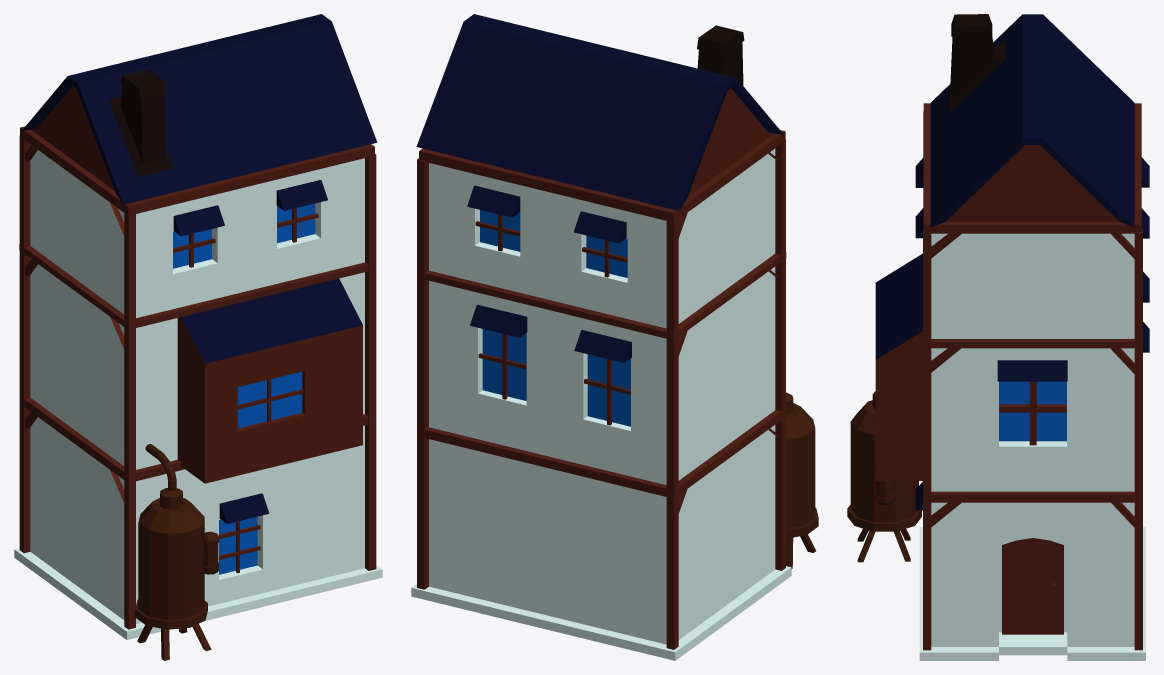
Rendered from house_with_tank.obj.
The picture shows the model from 3 angles, left to right: view 1: azimuth 30°, elevation 25°; view 2: azimuth 150°, elevation 25°; view 3: azimuth 270°, elevation 25°; orthographic projection. The views are drawn at different scales.
Visible parts, largest first — view 1: House; view 2: House; view 3: House.
Part boxes in pixels (x1,y1,x2,y2): House: (14,14,382,660); House: (411,14,818,660); House: (847,14,1149,660).
Size of the model in its own units: 8.86 by 17.36 by 8.87.
